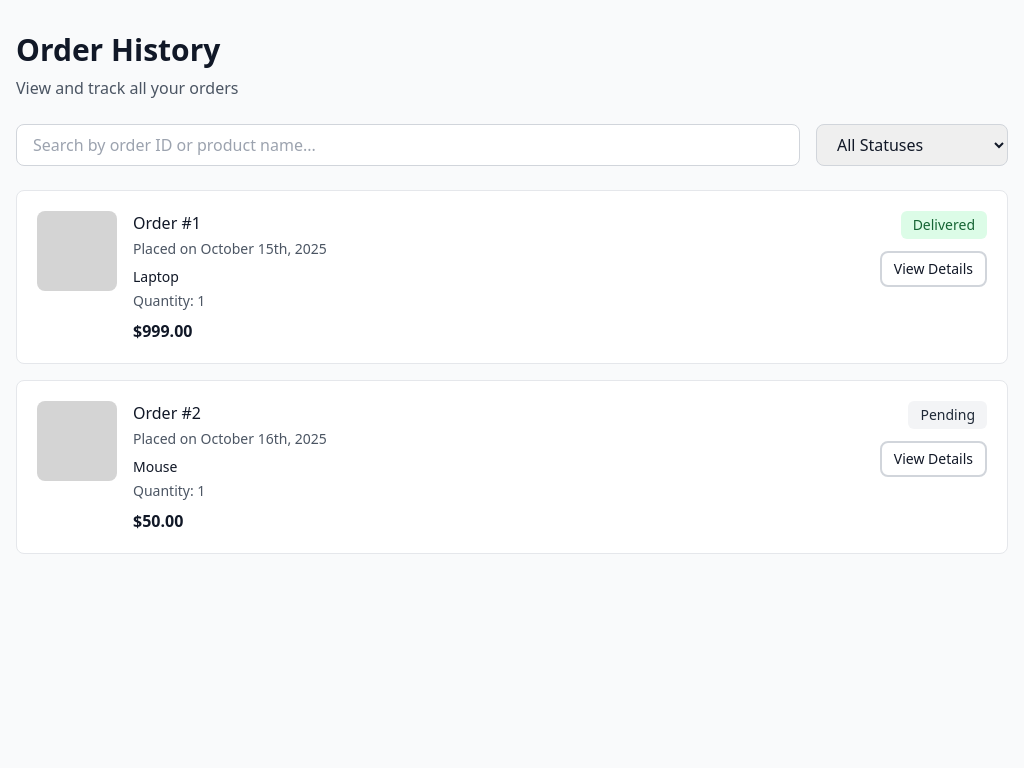
Scenario: OrderHistory Page › filters orders by status
Check: the text "Laptop" is shown, box [133,267,179,286]
Step 1. Select "Delivered" in the dropdown → (912, 145), box [816,124,1008,166]
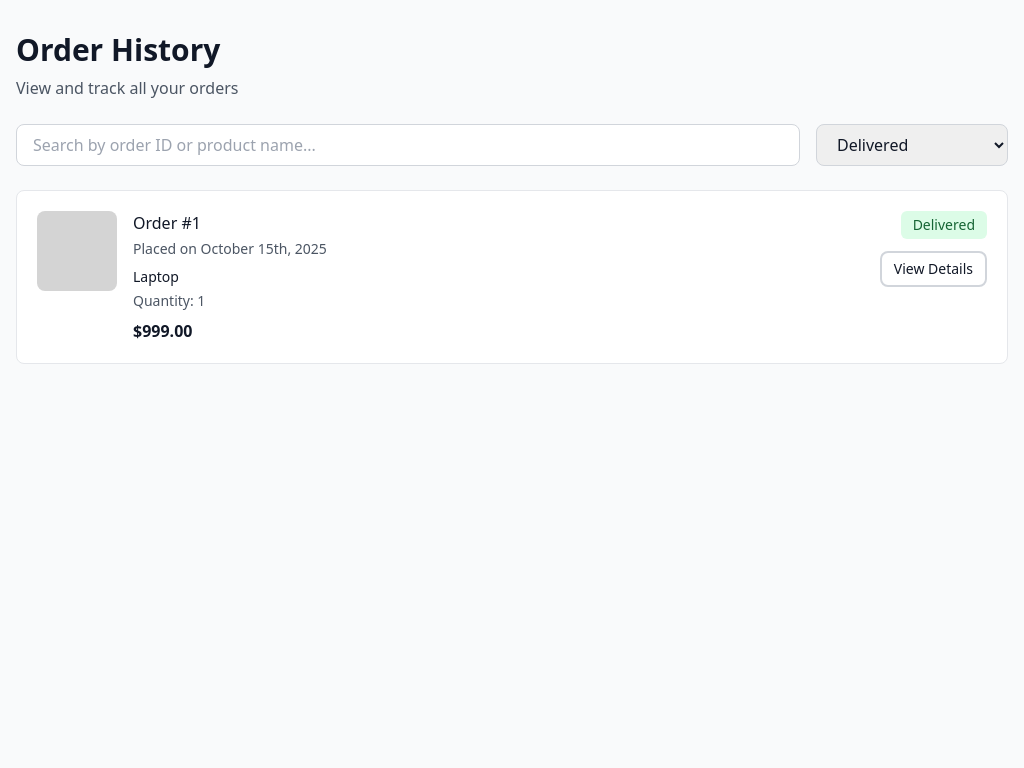
Check: the text "Laptop" is shown, box [133,267,179,286]
Check: the text "Mouse" is gone
